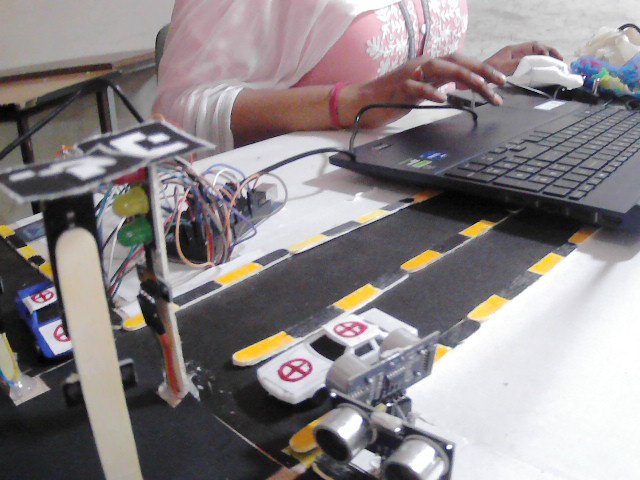aruco_marker: (0, 144, 145, 202), (77, 117, 203, 164)
emergency_vehicle: (258, 308, 414, 407), (14, 277, 72, 360)
traffic_light: (116, 164, 157, 255)
uno_breadboard: (317, 393, 457, 480), (161, 176, 287, 256), (327, 327, 443, 406), (14, 217, 46, 245)
